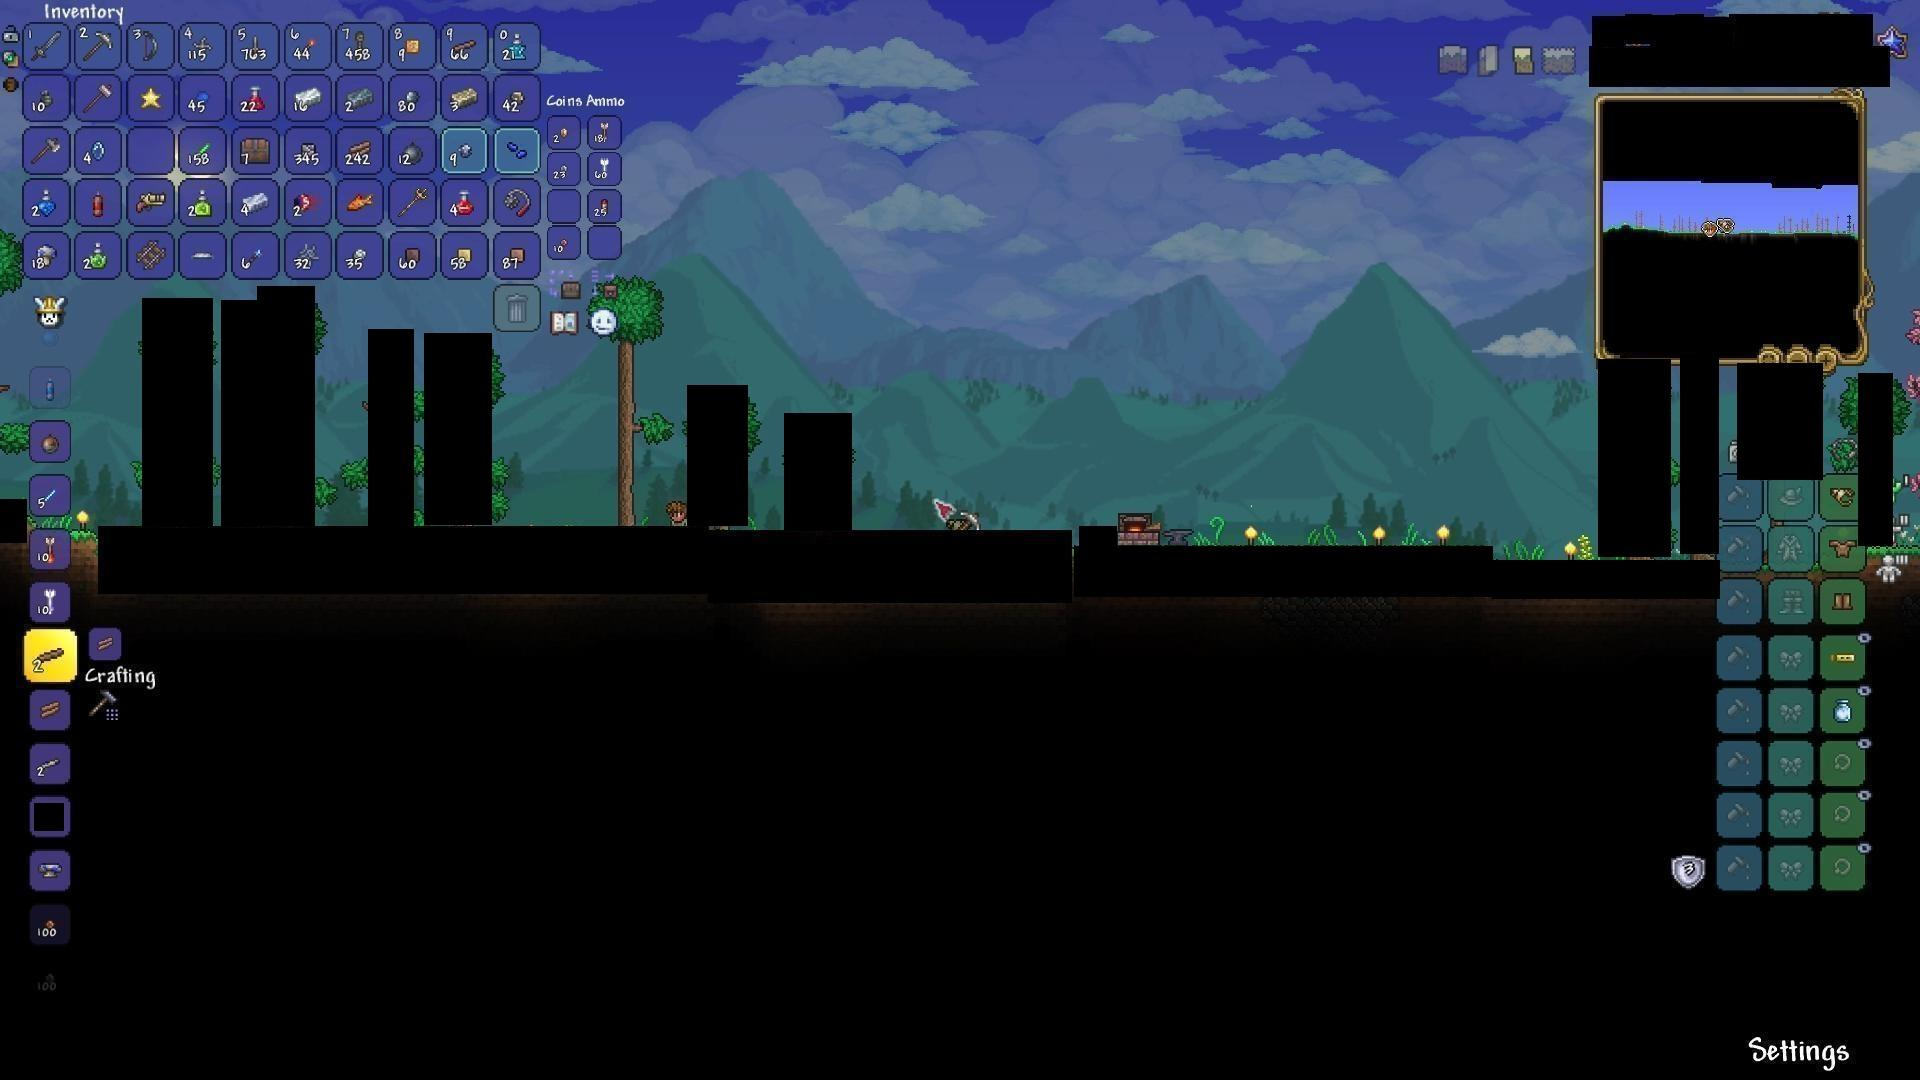breastplate: (1829, 541, 1854, 560)
helmet: (1830, 483, 1858, 506)
legs: (1830, 589, 1857, 615)
tree: (589, 295, 658, 527)
wood: (343, 137, 373, 165), (91, 632, 119, 658), (37, 698, 65, 724)
